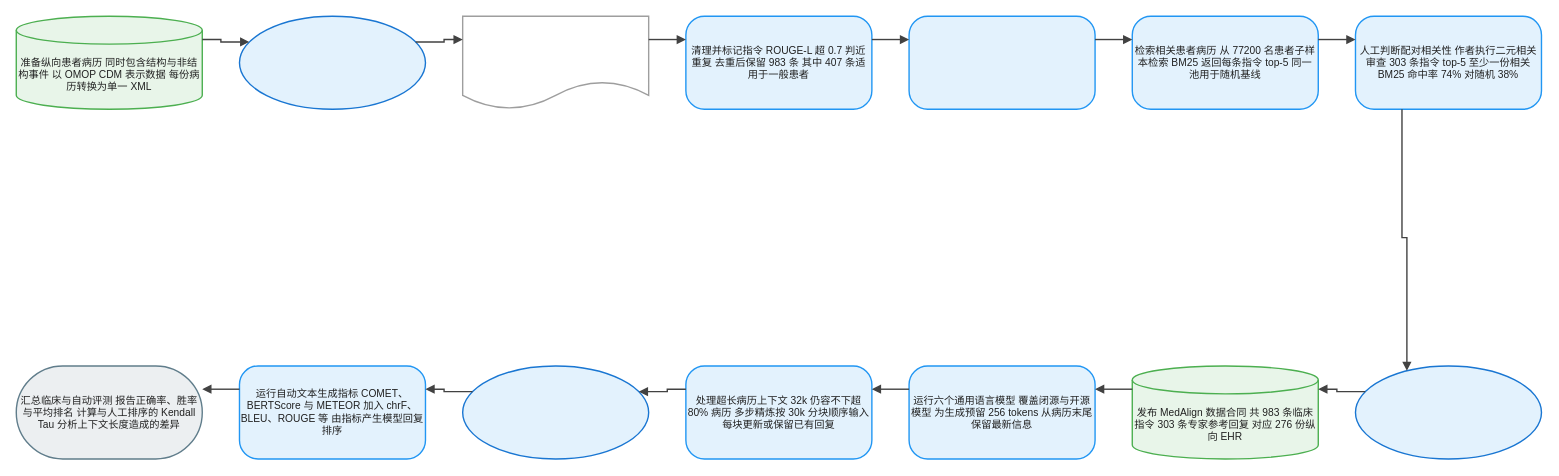
Some shapes in this 1559 by 476 pixel diagram are drawn without their labels. Each missing label, with the centre of its shape:
"九名临床医生盲法评测 二元判断临床回复是否正确 再按相关性与适当性排序 允许并列且随机模型顺序" goes at (555,412).
"招募临床指令作者 共 15 名执业临床医生 覆盖 7 个医学专科 通过在线表单独立提交" goes at (332,62).
"第一阶段：收集指令 构想日常 EHR 工作情境 提交 1314 条问题或命令 附患者特征与临床语境" goes at (555,62).
"第三阶段：专家生成回复 优先分配同专科非原作者 检查可行性与信息充分性 以病历最新时间为锚作答" goes at (1448,412).
"第二阶段：构造检索查询 使用一般患者适用指令 拼接患者特征与临床语境 对比随机配对和 BM25Okapi" goes at (1001,62).
